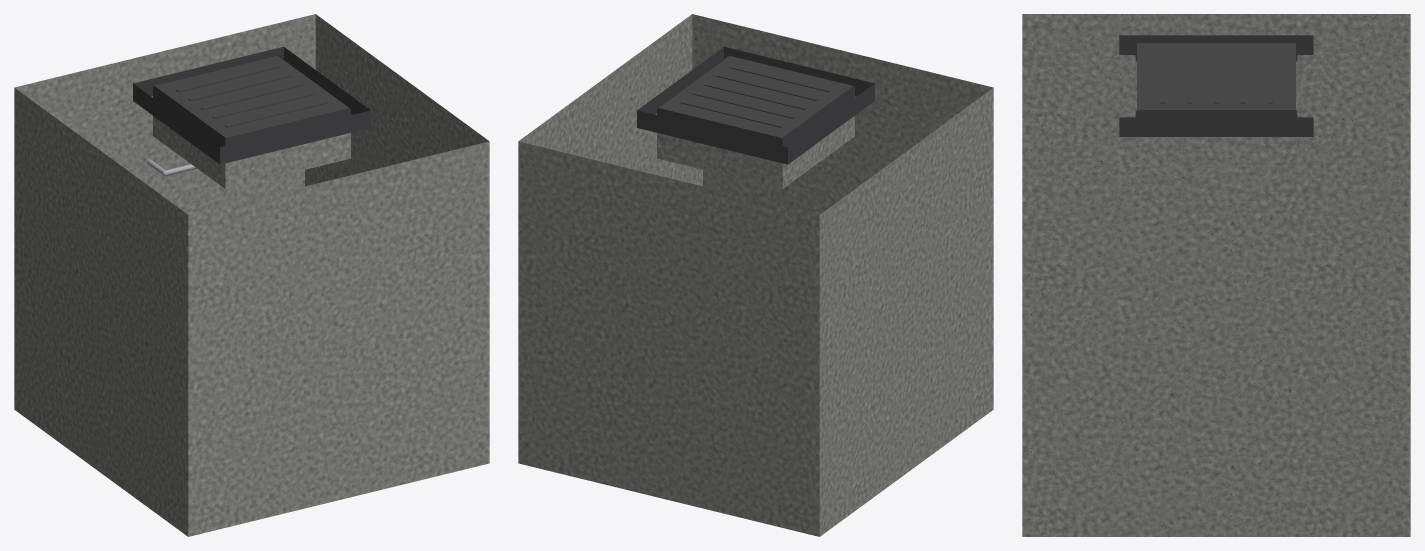
The picture shows the model from 3 angles, left to right: view 1: azimuth 30°, elevation 25°; view 2: azimuth 150°, elevation 25°; view 3: azimuth 270°, elevation 25°; orthographic projection. The views are drawn at different scales.
Parts seen in each view (by area): view 1: coverLevelOffset=0;coverMaterial=cast_iron;coverShape=square (×2); view 2: coverLevelOffset=0;coverMaterial=cast_iron;coverShape=square (×2); view 3: coverLevelOffset=0;coverMaterial=cast_iron;coverShape=square (×2).
Part boxes in pixels (x1=…): coverLevelOffset=0;coverMaterial=cast_iron;coverShape=square (×2): x1=14, y1=14, x2=489, y2=536; coverLevelOffset=0;coverMaterial=cast_iron;coverShape=square (×2): x1=518, y1=14, x2=993, y2=536; coverLevelOffset=0;coverMaterial=cast_iron;coverShape=square (×2): x1=1022, y1=14, x2=1410, y2=536.
Bounding box in the file's own units: 1.44 × 1.44 × 1.55.
Materials: 3 (1 with a texture image).
